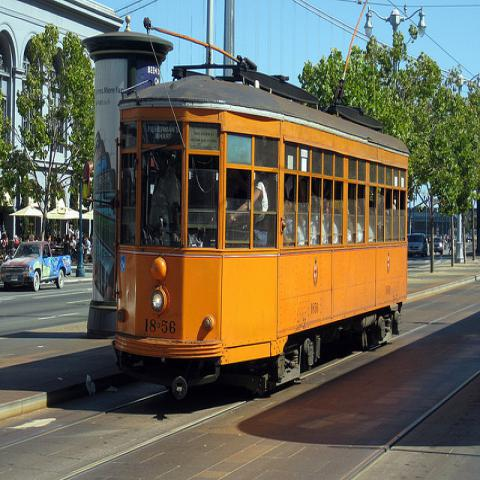car: (408, 233, 428, 260), (434, 236, 443, 255)
truck: (0, 241, 72, 292)
